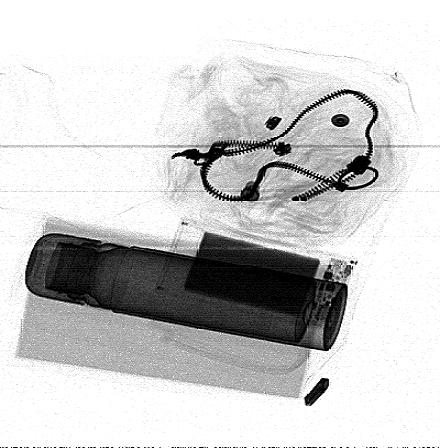Powerbank: (156, 218, 361, 327)
